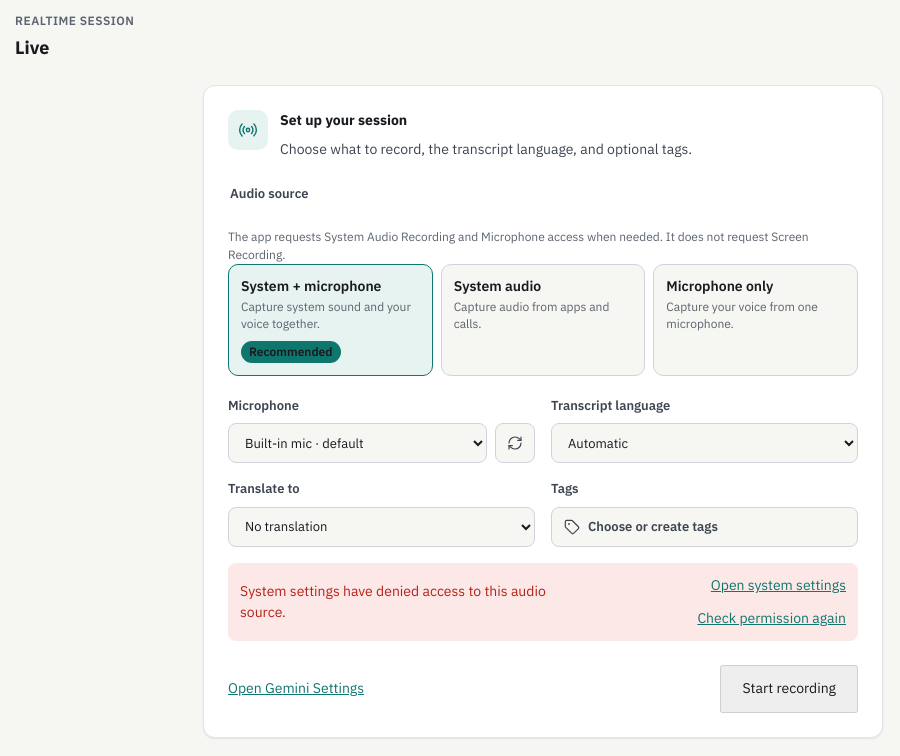
Test: Live setup and status UI › offers an explicit permission recheck in the denied-source banner
Expected: the text "System settings have denied access to this audio source." is shown, [240, 581, 564, 623]
Step 1. Click the button "Check permission again" → (772, 618), box [697, 608, 846, 629]
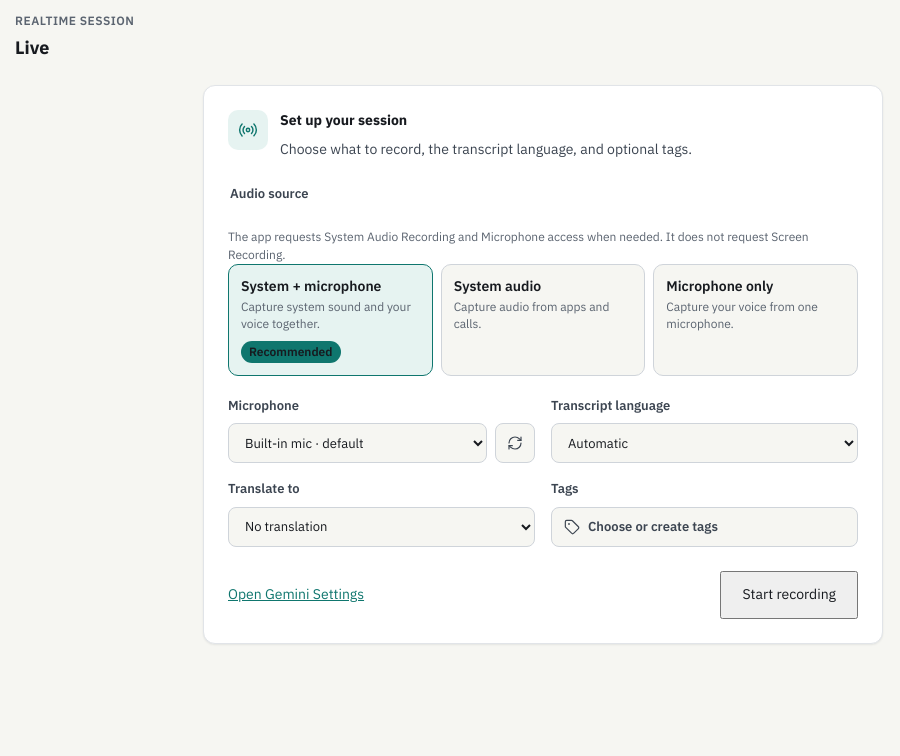
Result: the text "System settings have denied access to this audio source." is gone
